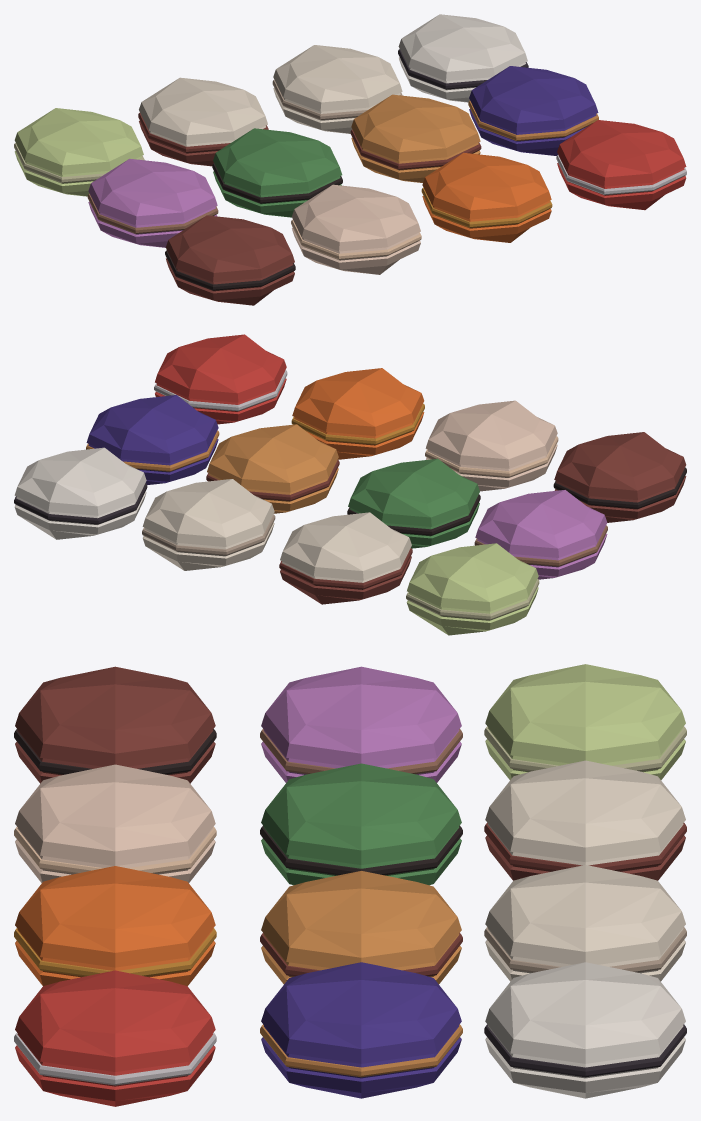
The picture shows the model from 3 angles, top to bottom: view 1: azimuth 30°, elevation 25°; view 2: azimuth 150°, elevation 25°; view 3: azimuth 270°, elevation 25°; orthographic projection. The views are drawn at different scales.
Parts seen in each view (by area): view 1: Node; view 2: Node; view 3: Node.
Boxes of the visible parts, x1,y1,x2,y2 form: Node: [14, 14, 686, 305]; Node: [14, 334, 686, 635]; Node: [14, 664, 686, 1106].
Size of the model in its own units: 4.64 by 0.5576 by 3.37.
